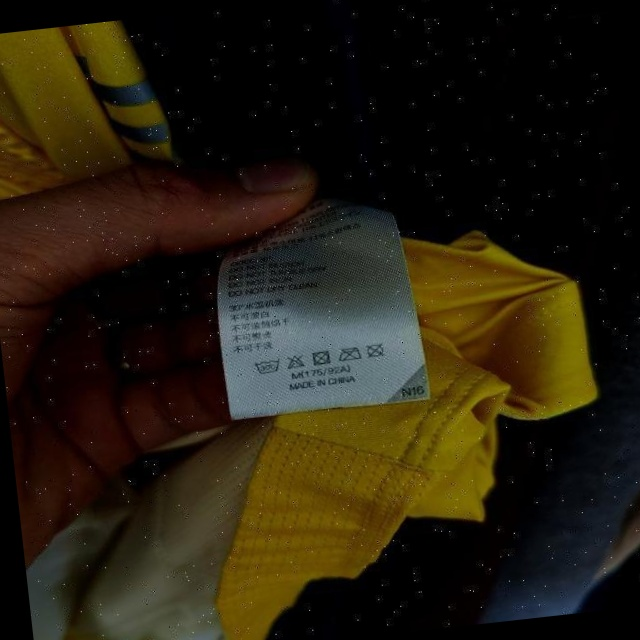30C: (253, 356, 283, 378)
DN_bleach: (286, 353, 308, 370)
DN_dry_clean: (365, 341, 388, 360)
DN_iron: (335, 344, 363, 364)
DN_tumble_dry: (311, 349, 333, 368)
